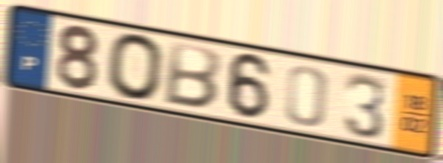0: (282, 63, 330, 129)
3: (343, 70, 386, 142)
6: (225, 50, 274, 122)
8: (54, 23, 103, 93)
B: (160, 38, 224, 112)
O: (106, 31, 166, 104)
